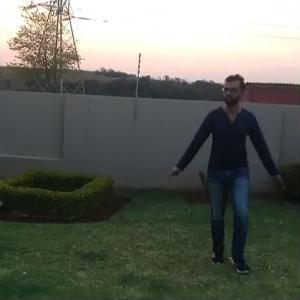land: (168, 71, 282, 269)
